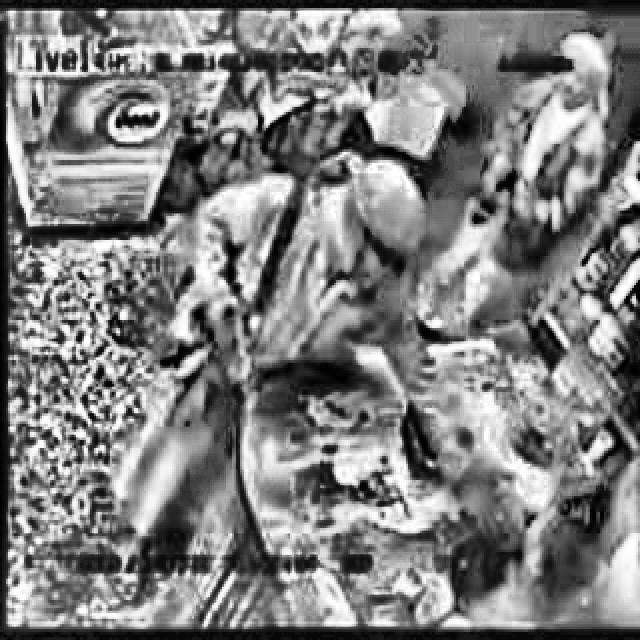robbery: (123, 147, 528, 552)
